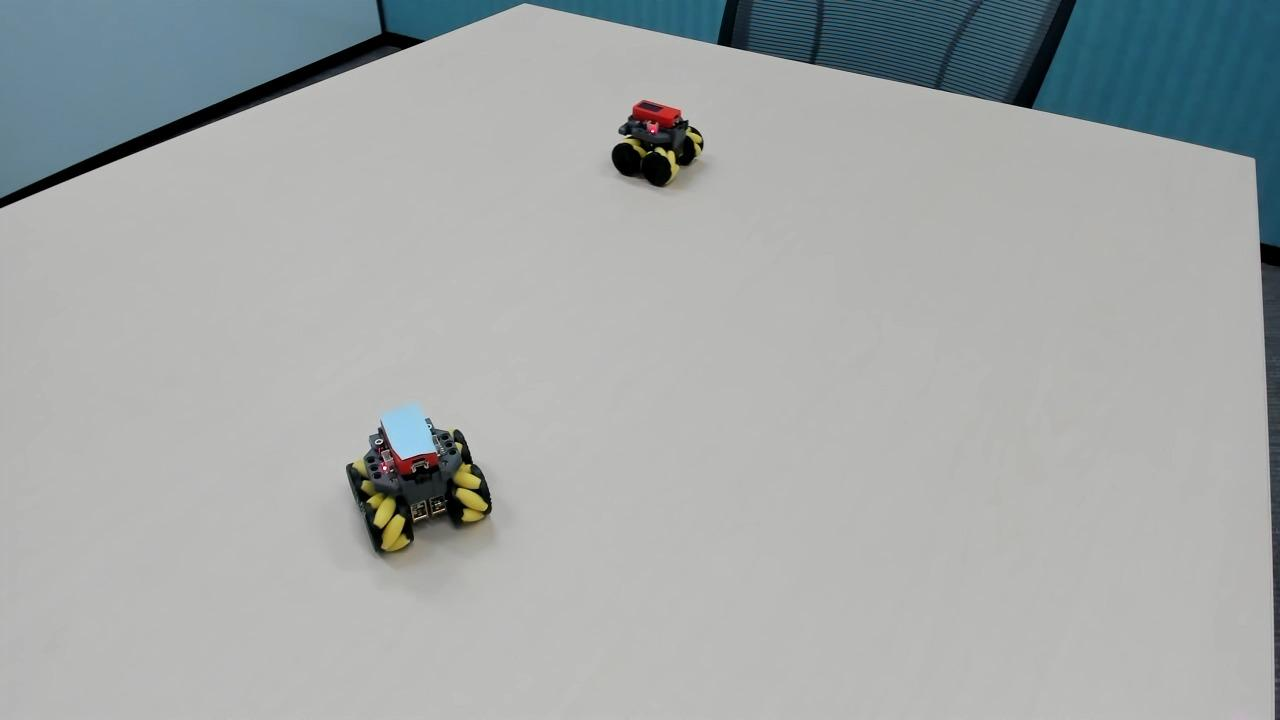B-Robot: (339, 391, 514, 568)
R-Robot: (606, 88, 716, 196)
